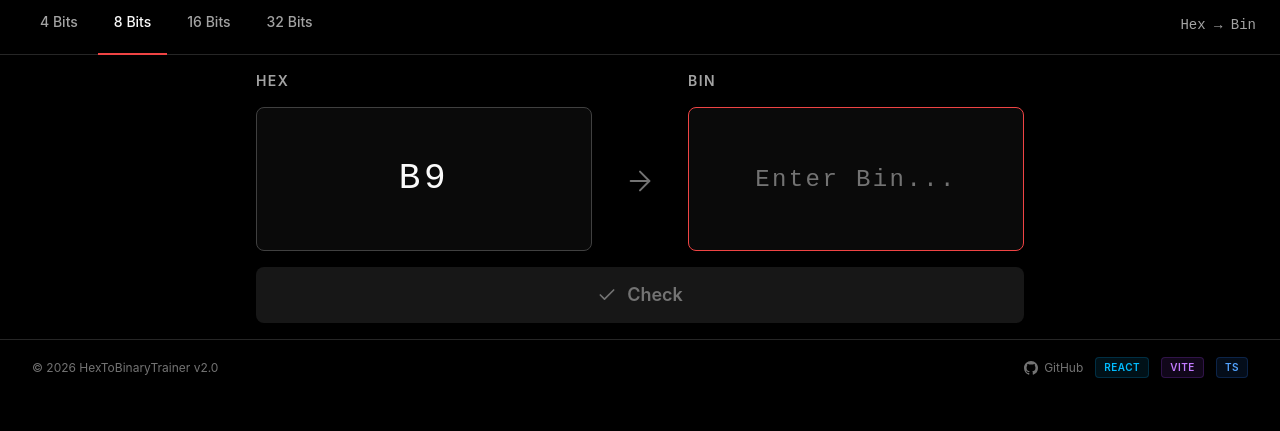
unlock gating (US-39) › server authority on a 403 (AC-4) › surfaces the same hint in English (AC-5, both locales)
Type "10000111" into the field at (856, 179), box [713,162,999,196]
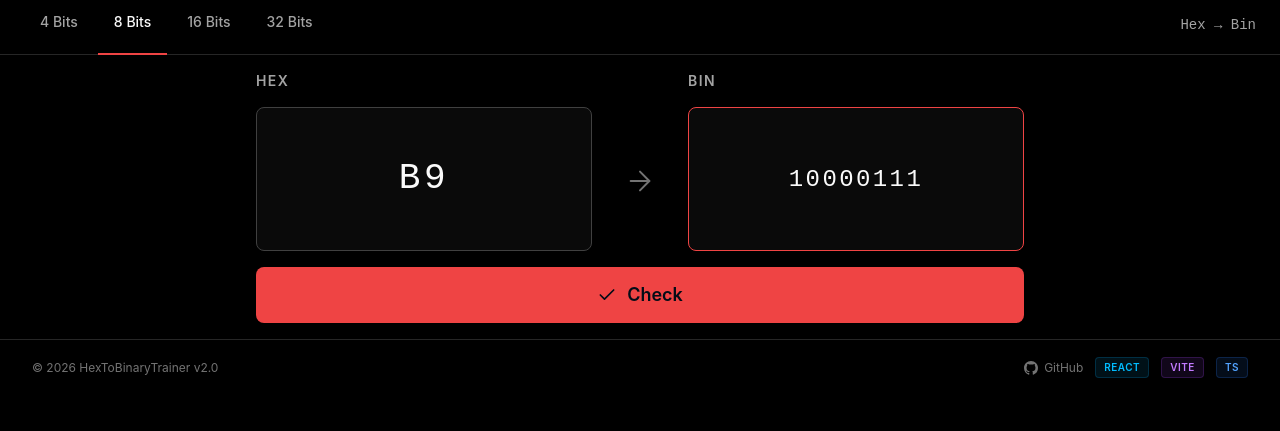
Click the button with aria-label "check answer" at (640, 295), box [256,267,1024,323]
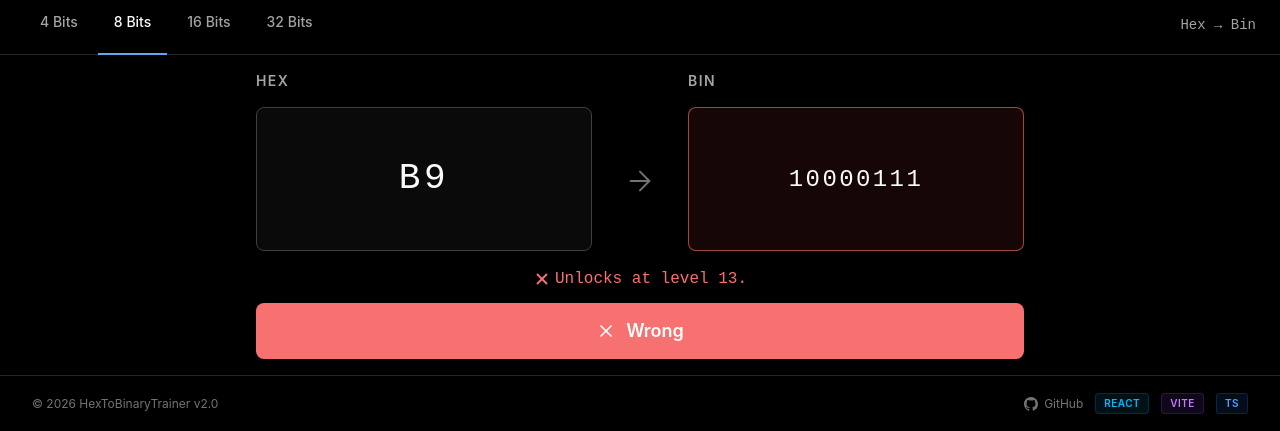
Expected: the message reads "Unlocks at level 13.", [555,270,747,288]
